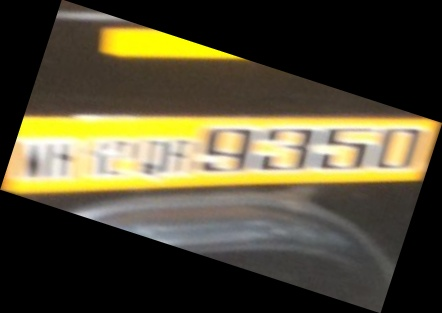character: (200, 124, 251, 174), (262, 124, 312, 174), (320, 125, 371, 170), (376, 126, 423, 170)
